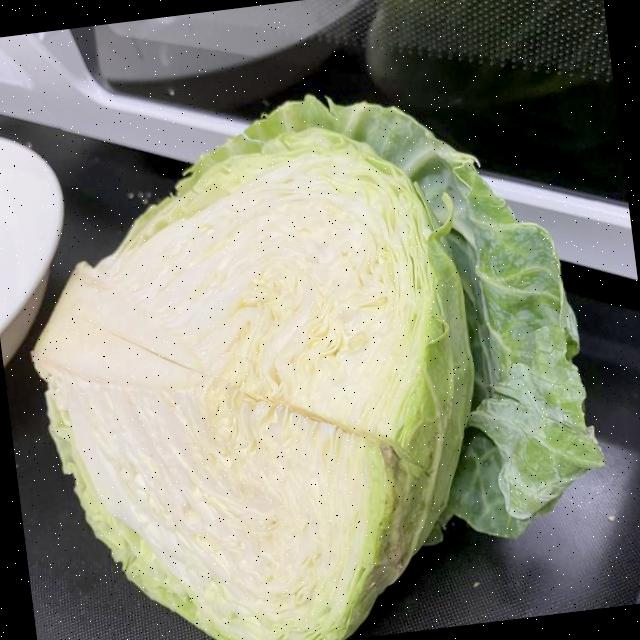cabbage: (0, 60, 628, 640)
